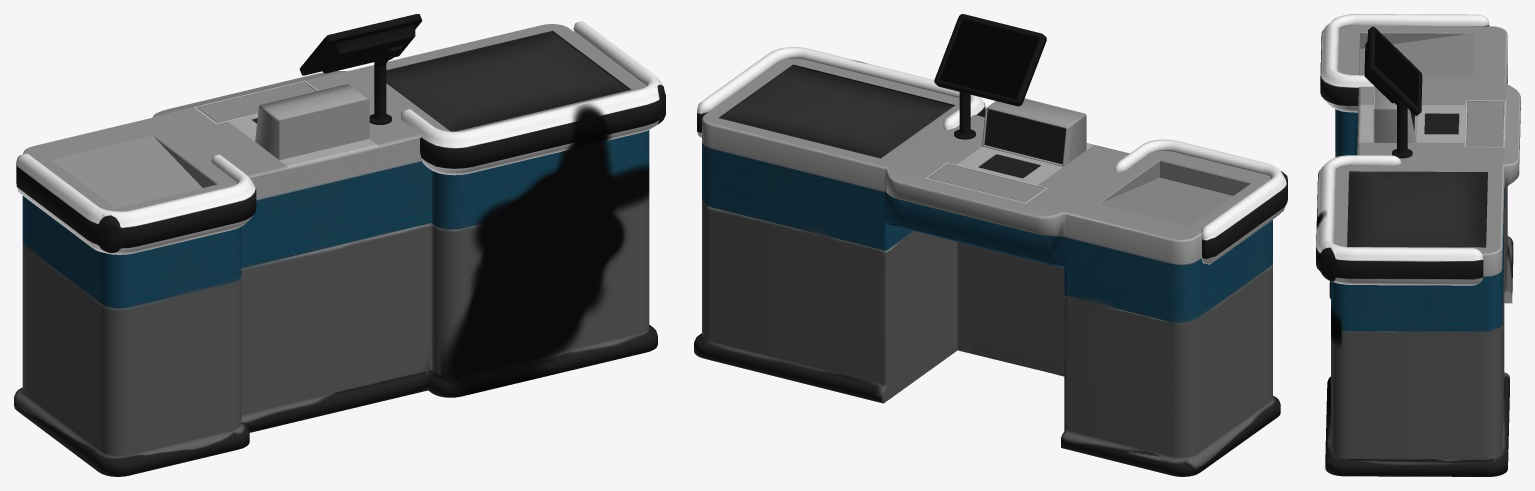
Rendered from caja2.glb.
3 renders of one model, left to right at view 1: azimuth 30°, elevation 25°; view 2: azimuth 150°, elevation 25°; view 3: azimuth 270°, elevation 25°, orthographic. The views are drawn at different scales.
Parts seen in each view (by area): view 1: pied_ecran; view 2: pied_ecran; view 3: pied_ecran.
Part boxes in pixels (x1,y1,x2,y2): pied_ecran: (14, 14, 665, 476); pied_ecran: (694, 14, 1287, 476); pied_ecran: (1316, 14, 1520, 476).
Size of the model in its own units: 2 by 1.23 by 0.7172.
3 materials, 2 textured.
